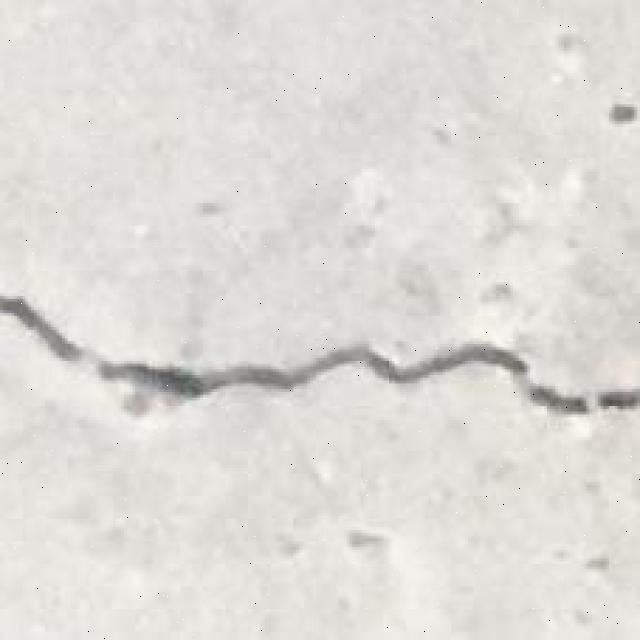crack: (1, 293, 638, 420)
